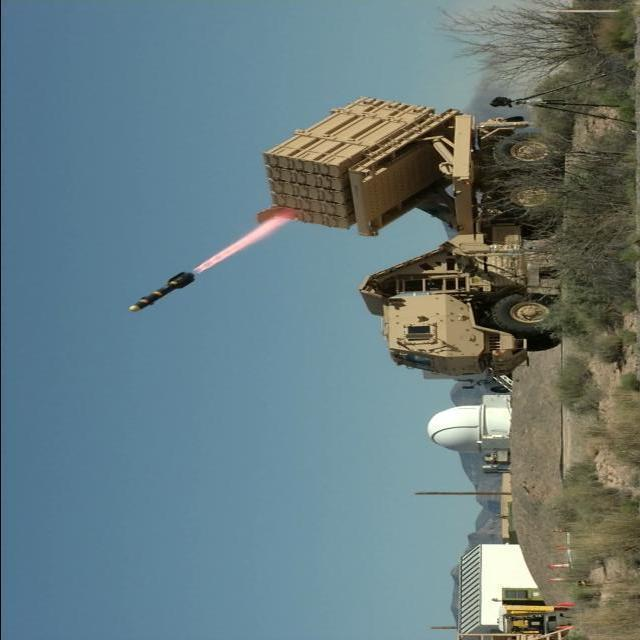missile: (130, 270, 196, 316)
